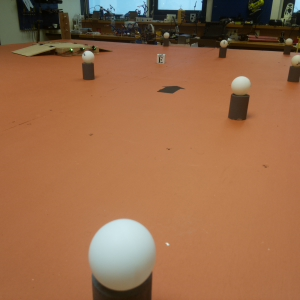blockE: (157, 53, 166, 67)
corner: (60, 13, 72, 40)
obstacle: (88, 219, 160, 299), (227, 75, 253, 122), (82, 51, 97, 84), (285, 53, 300, 82), (219, 40, 229, 60), (283, 36, 292, 56), (163, 33, 170, 49)
side: (56, 46, 95, 55)
slope: (13, 45, 56, 59), (98, 44, 113, 55)
start: (156, 85, 187, 94)
